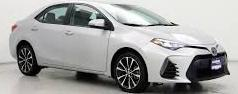Cars: (11, 3, 231, 93)
